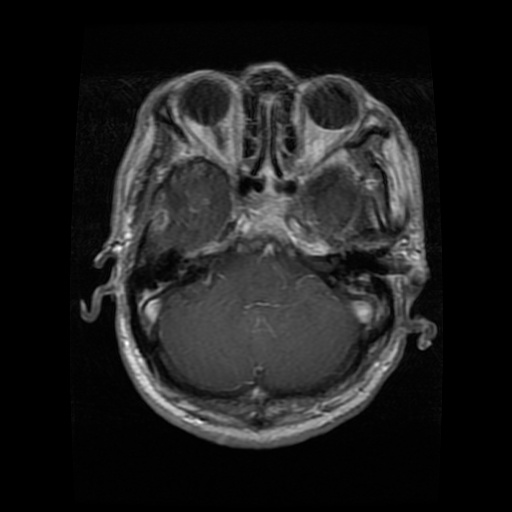glioma: (147, 191, 173, 231)
